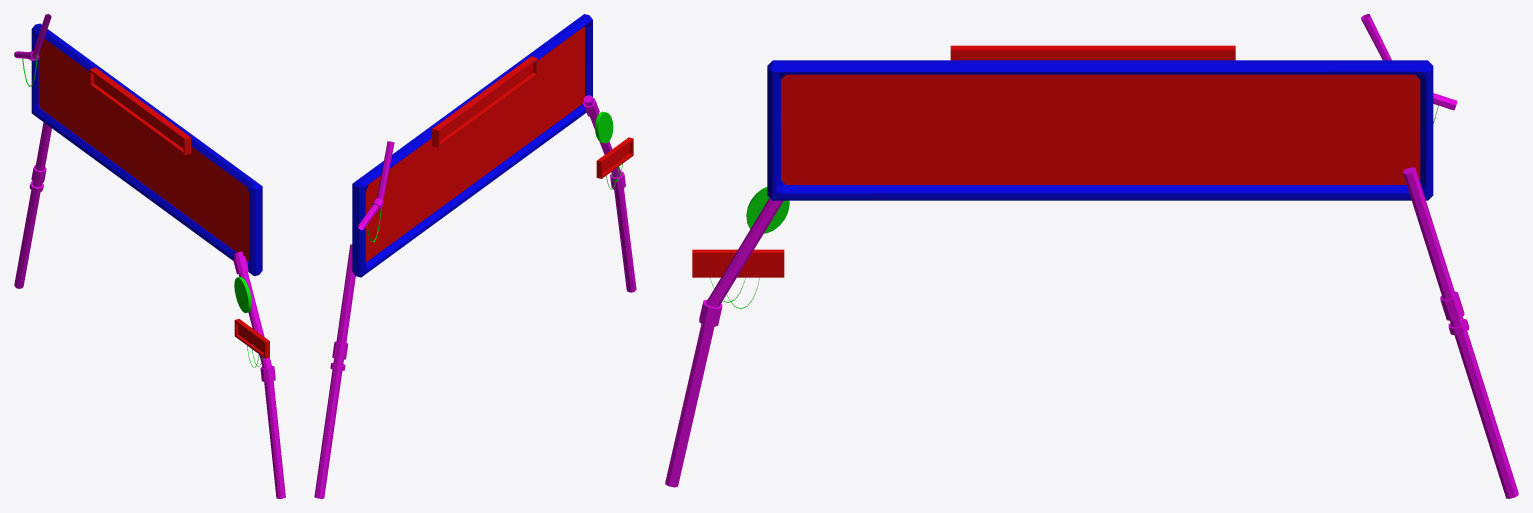
The model's file is Sign.fbx.
The picture shows the model from 3 angles, left to right: view 1: azimuth 30°, elevation 25°; view 2: azimuth 150°, elevation 25°; view 3: azimuth 270°, elevation 25°; orthographic projection. The views are drawn at different scales.
Visible parts, largest first — view 1: pCube1, frame, sign1, pipe, pipe2, sign2, reflector, pipe5; view 2: pCube1, frame, pipe2, sign1, pipe, sign2, pipe5, reflector; view 3: pCube1, frame, pipe2, sign1, pipe, sign2.
Boxes of the visible parts, x1,y1,x2,y2 form: pCube1: (38,39,249,261); frame: (31,23,262,276); sign1: (89,67,190,155); pipe: (233,251,285,498); pipe2: (14,122,51,288); sign2: (234,319,269,358); reflector: (234,277,251,312); pipe5: (14,14,51,60); pCube1: (365,26,585,262); frame: (352,14,592,277); pipe2: (314,244,355,498); sign1: (432,56,537,147); pipe: (583,95,636,292); sign2: (596,137,633,178); pipe5: (358,141,394,230); reflector: (595,111,613,143); pCube1: (781,74,1420,184); frame: (767,60,1433,200); pipe2: (1403,167,1518,498); sign1: (950,45,1235,60); pipe: (665,198,783,487); sign2: (692,249,784,277).
Size of the model in its own units: 1.07 by 9.73 by 16.03.
